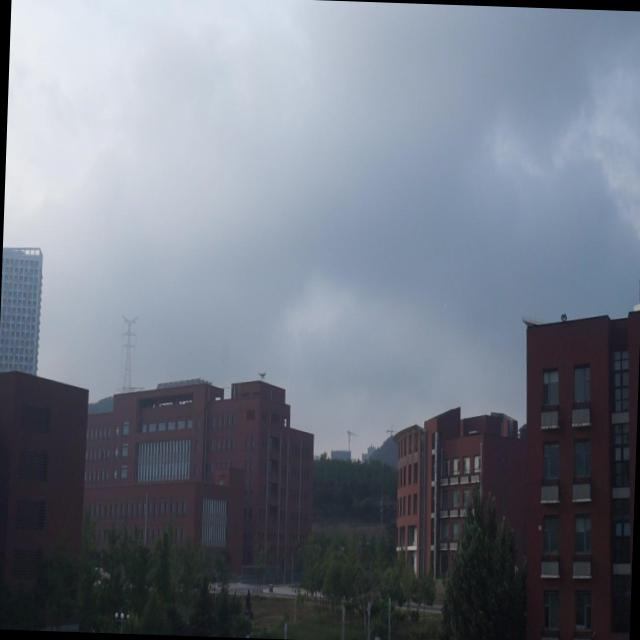drone: (257, 366, 269, 384)
